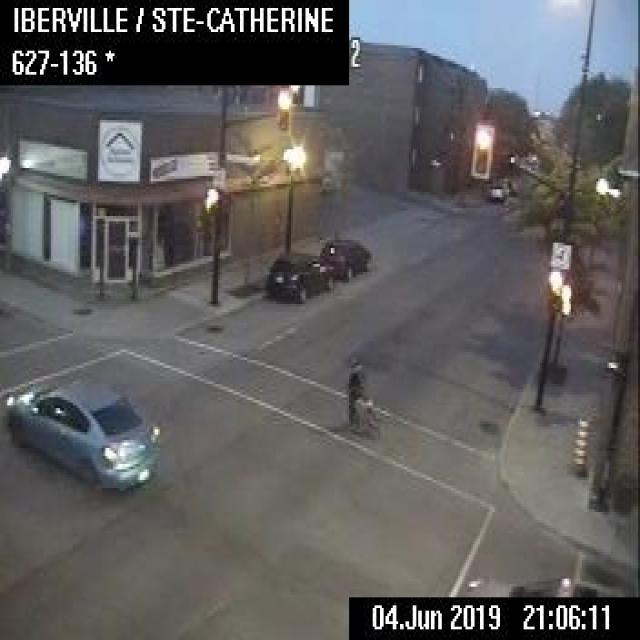pedestrian: (342, 355, 376, 429)
vehicle: (2, 374, 164, 494), (464, 549, 638, 595), (265, 250, 333, 298), (316, 237, 372, 280), (484, 176, 509, 200)
